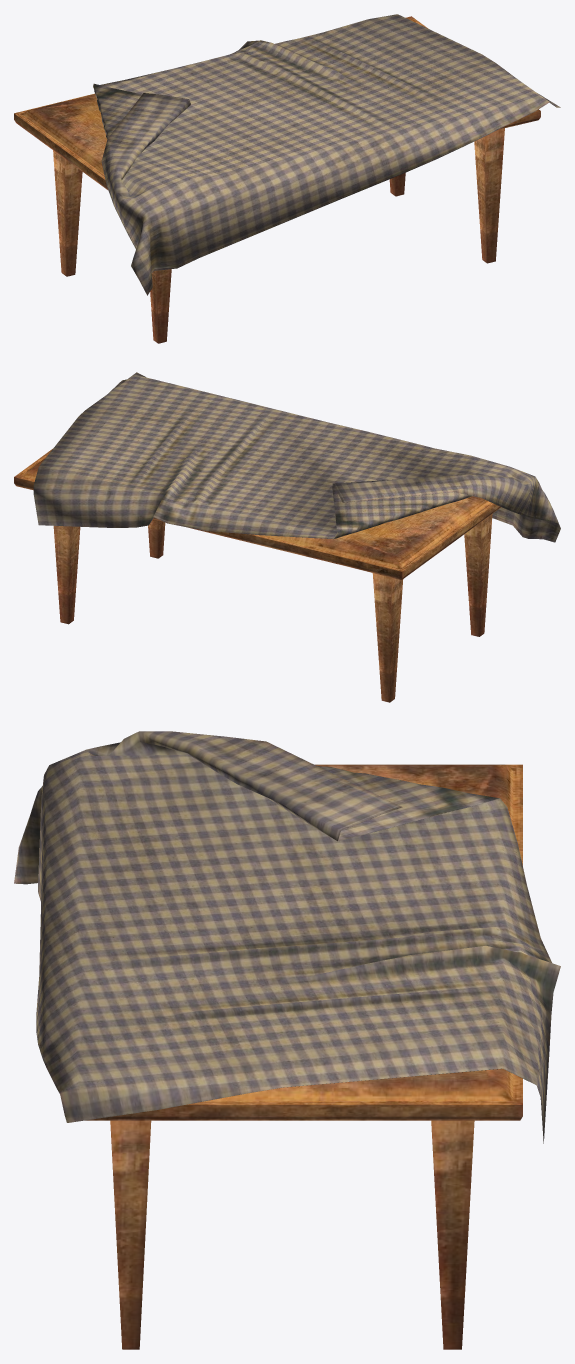
Rendered from dining_table.glb.
3 views of the same model, one above another, from view 1: azimuth 30°, elevation 25°; view 2: azimuth 150°, elevation 25°; view 3: azimuth 270°, elevation 25° (orthographic). The views are drawn at different scales.
Parts seen in each view (by area): view 1: dining_table_cloth, dining_table; view 2: dining_table_cloth, dining_table; view 3: dining_table_cloth, dining_table.
Boxes of the visible parts, <box> form: dining_table_cloth: <box>93,14,560,295</box>; dining_table: <box>14,16,540,343</box>; dining_table_cloth: <box>33,372,560,542</box>; dining_table: <box>14,449,501,702</box>; dining_table_cloth: <box>14,731,560,1143</box>; dining_table: <box>85,764,522,1349</box>.
Bounding box in the file's own units: 2.26 × 0.877 × 1.39.
1 material, 1 textured.
